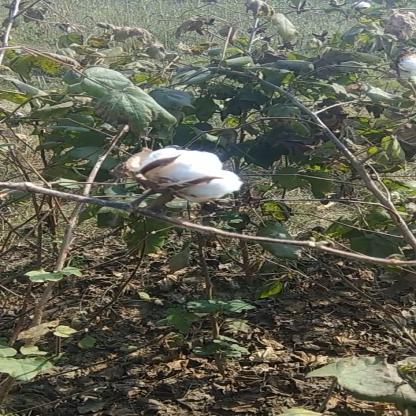cotton_ready: (111, 140, 243, 221)
